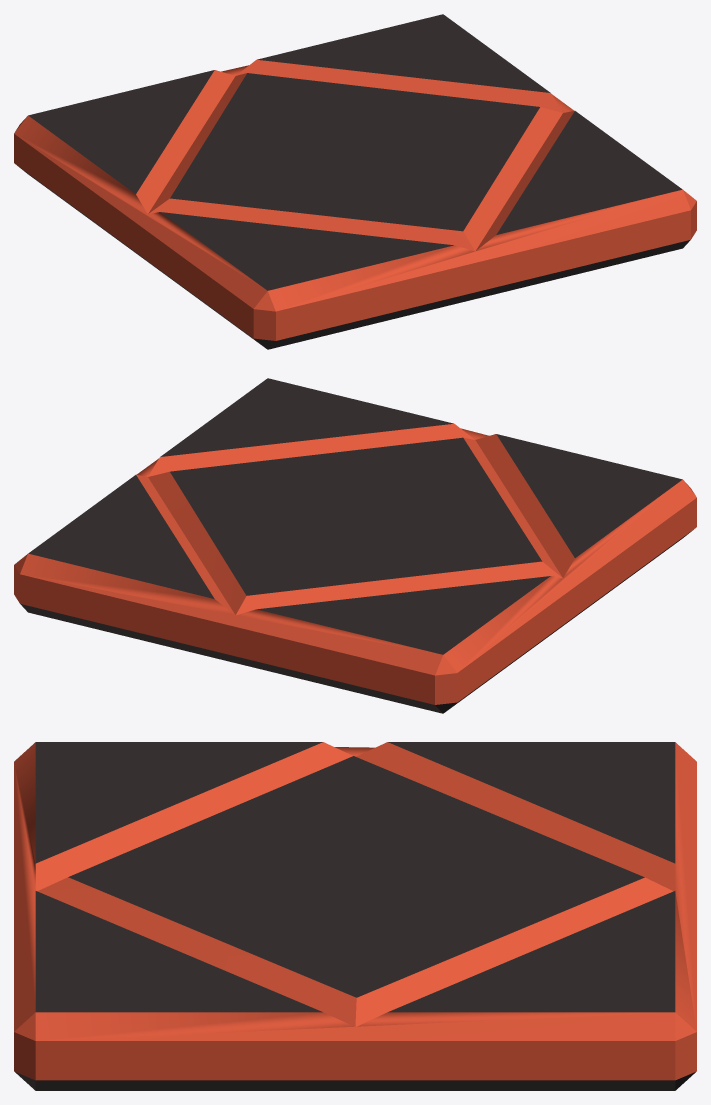
File: SpawnPoint_Red.fbx
3 renders of one model, top to bottom at view 1: azimuth 30°, elevation 25°; view 2: azimuth 150°, elevation 25°; view 3: azimuth 270°, elevation 25°, orthographic. The views are drawn at different scales.
Parts seen in each view (by area): view 1: pCube1; view 2: pCube1; view 3: pCube1.
Part boxes in pixels (x1,y1,x2,y2): pCube1: (14, 14, 696, 349); pCube1: (14, 378, 696, 713); pCube1: (14, 742, 696, 1090).
Bounding box in the file's own units: 3.67 × 0.4662 × 3.67.
